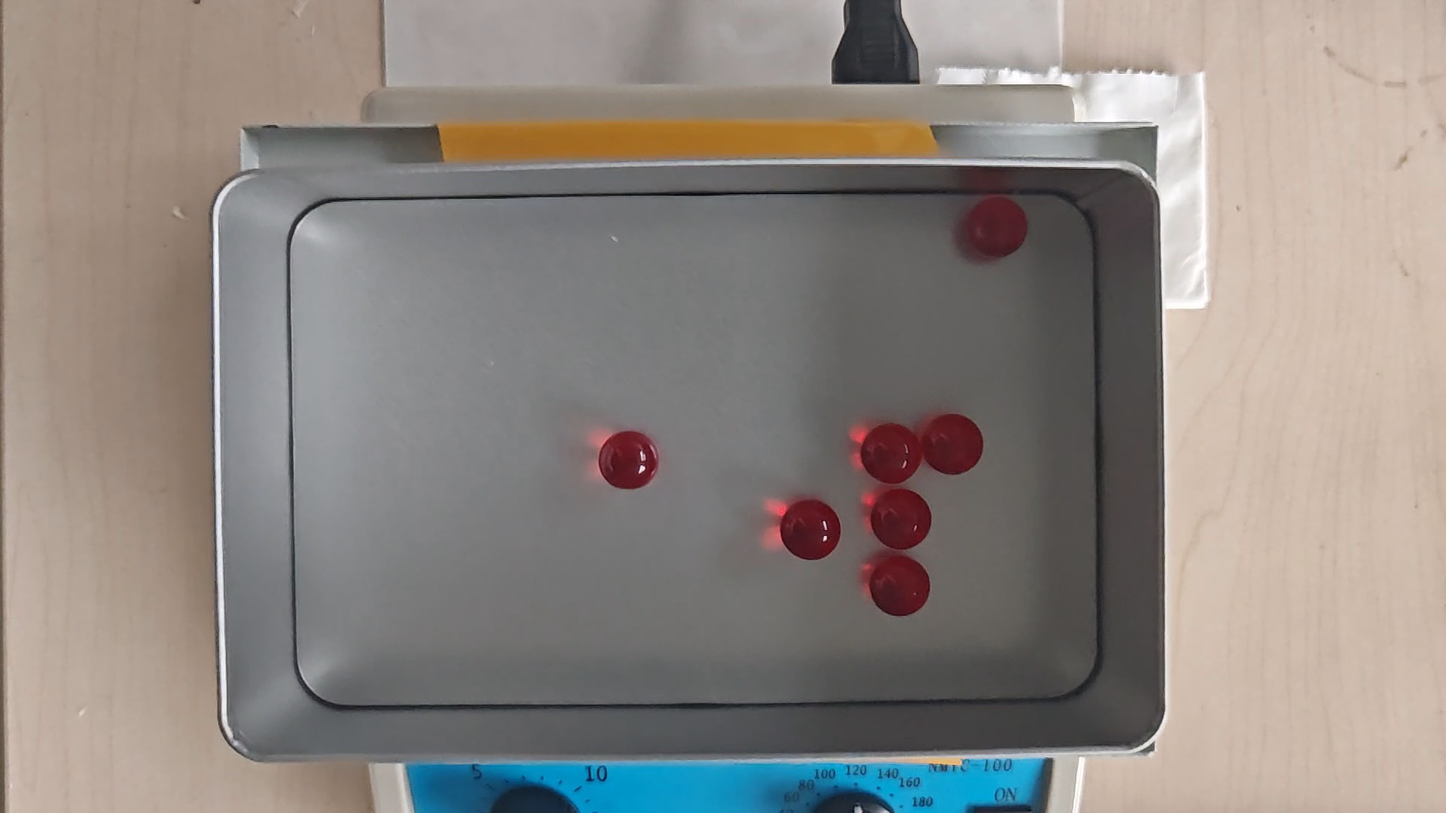ball: (868, 554, 930, 617), (779, 501, 841, 562), (923, 415, 985, 476), (596, 430, 659, 490), (862, 422, 921, 484), (968, 199, 1029, 258), (871, 490, 930, 550)
container: (287, 195, 1099, 702)
